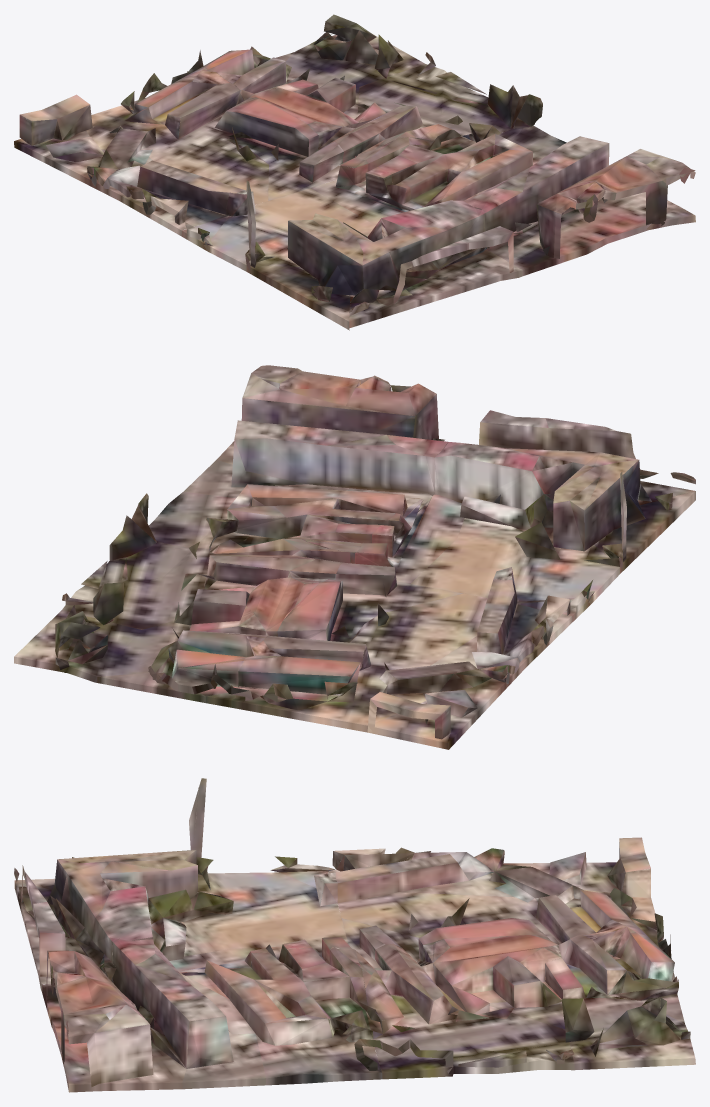
3 renders of one model, top to bottom at view 1: azimuth 30°, elevation 25°; view 2: azimuth 150°, elevation 25°; view 3: azimuth 270°, elevation 25°, orthographic. The views are drawn at different scales.
Visible parts, largest first — view 1: Mesh_0; view 2: Mesh_0; view 3: Mesh_0.
Part boxes in pixels (x1,y1,x2,y2): Mesh_0: [14, 14, 695, 330]; Mesh_0: [14, 365, 695, 749]; Mesh_0: [14, 778, 695, 1092].
Bounding box in the file's own units: 266 × 59.69 × 330.
Materials: 2 (2 with a texture image).
